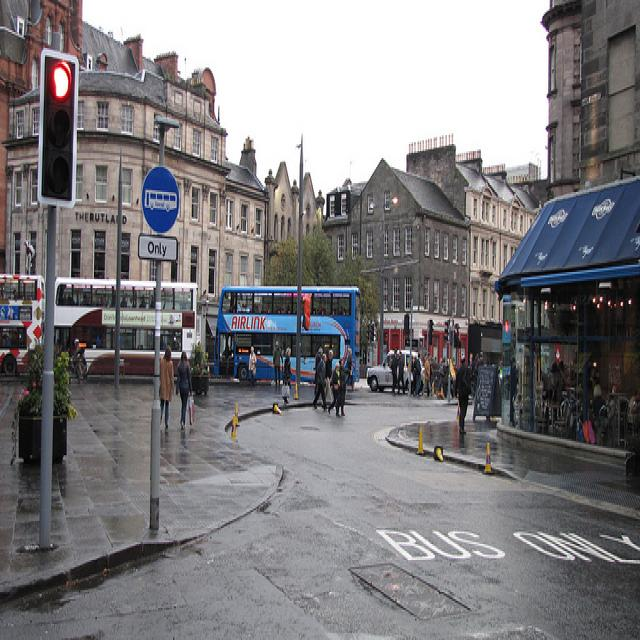Vehicle: (214, 286, 361, 386), (54, 271, 196, 371), (1, 275, 47, 378), (366, 350, 423, 394)
